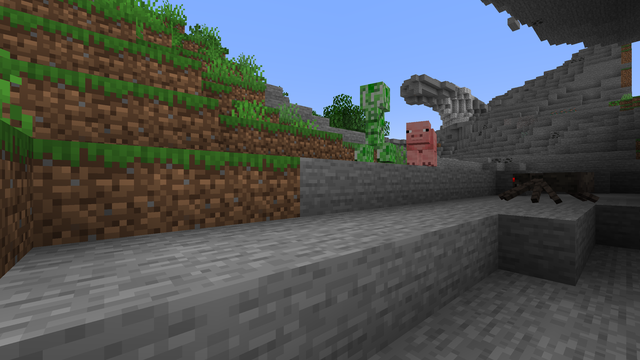araignees: (506, 168, 581, 204)
cochons: (402, 127, 446, 166)
creepers: (355, 76, 394, 163)
